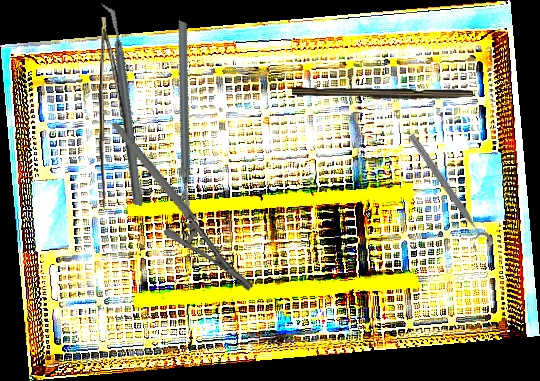Chopper: (110, 19, 267, 222), (50, 3, 194, 207)
Fixation Ring: (398, 130, 496, 256)
Needle Holder: (111, 96, 256, 317)
Scalpel Handle: (292, 87, 473, 101)
Tissue Forceps: (97, 16, 138, 210)
